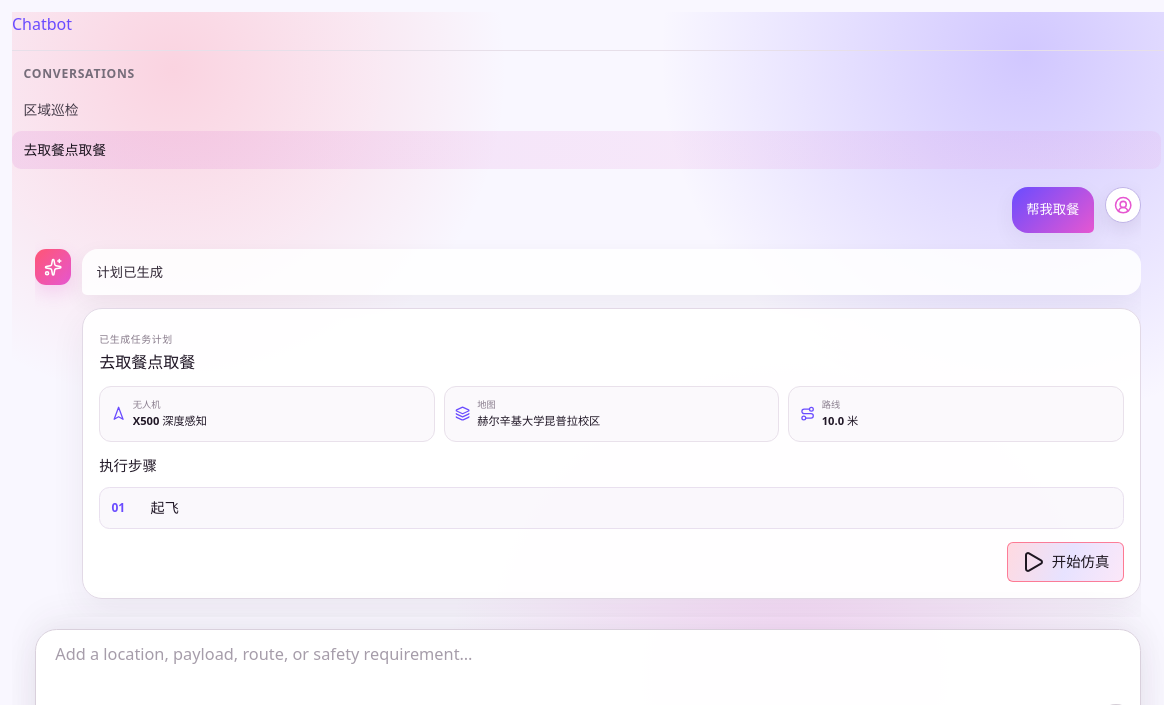
Chatbot to independent conversation › starts from the plan card, records acceptance only after the receipt, and embeds the inactive simulation viewer
expect the text "仿真正在运行" is not shown: met
Click the button "开始仿真": point(1065, 562) [1007,542,1124,582]
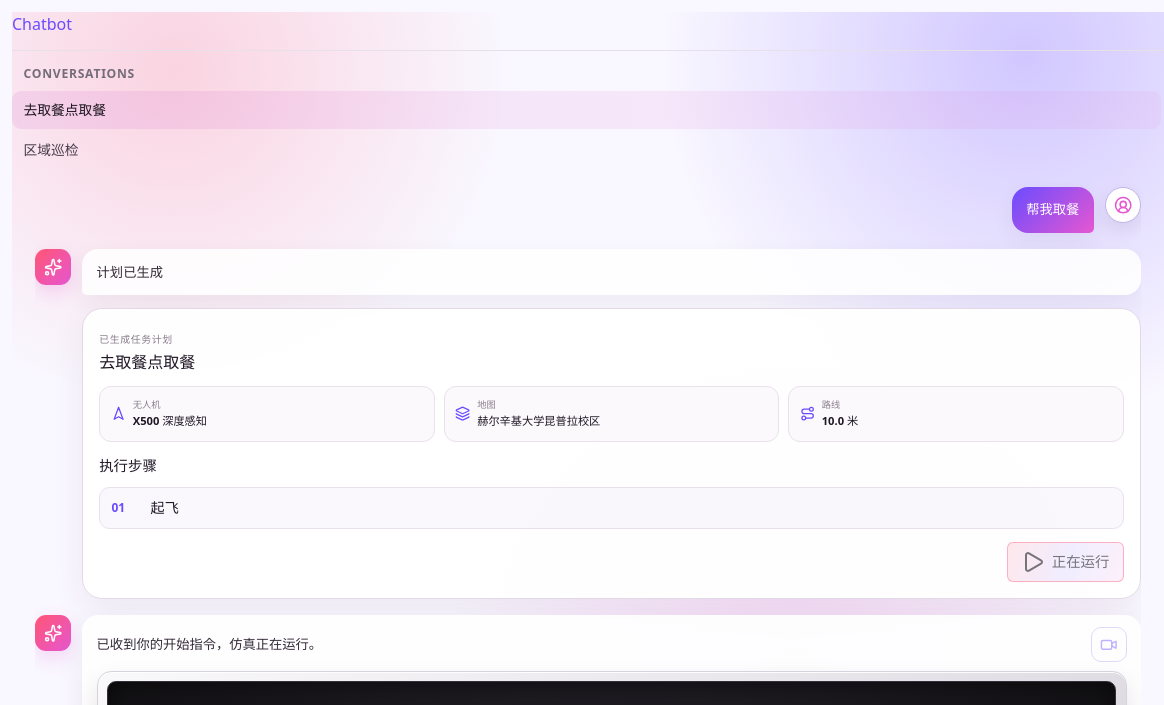
expect the text "已收到你的开始指令，仿真正在运行。" is shown: met, box [97,634,322,652]
expect the button named "Live 画面尚未就绪" is disabled: met, box [1091,627,1127,662]
expect the button "正在运行" is disabled: met, box [1007,542,1124,582]
